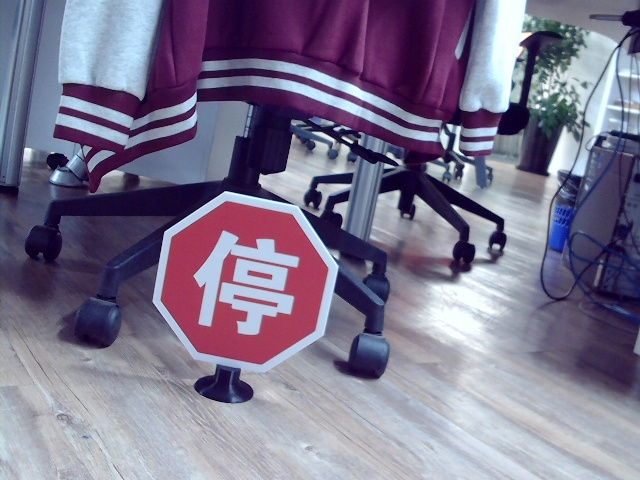stop: (190, 225, 297, 337)
